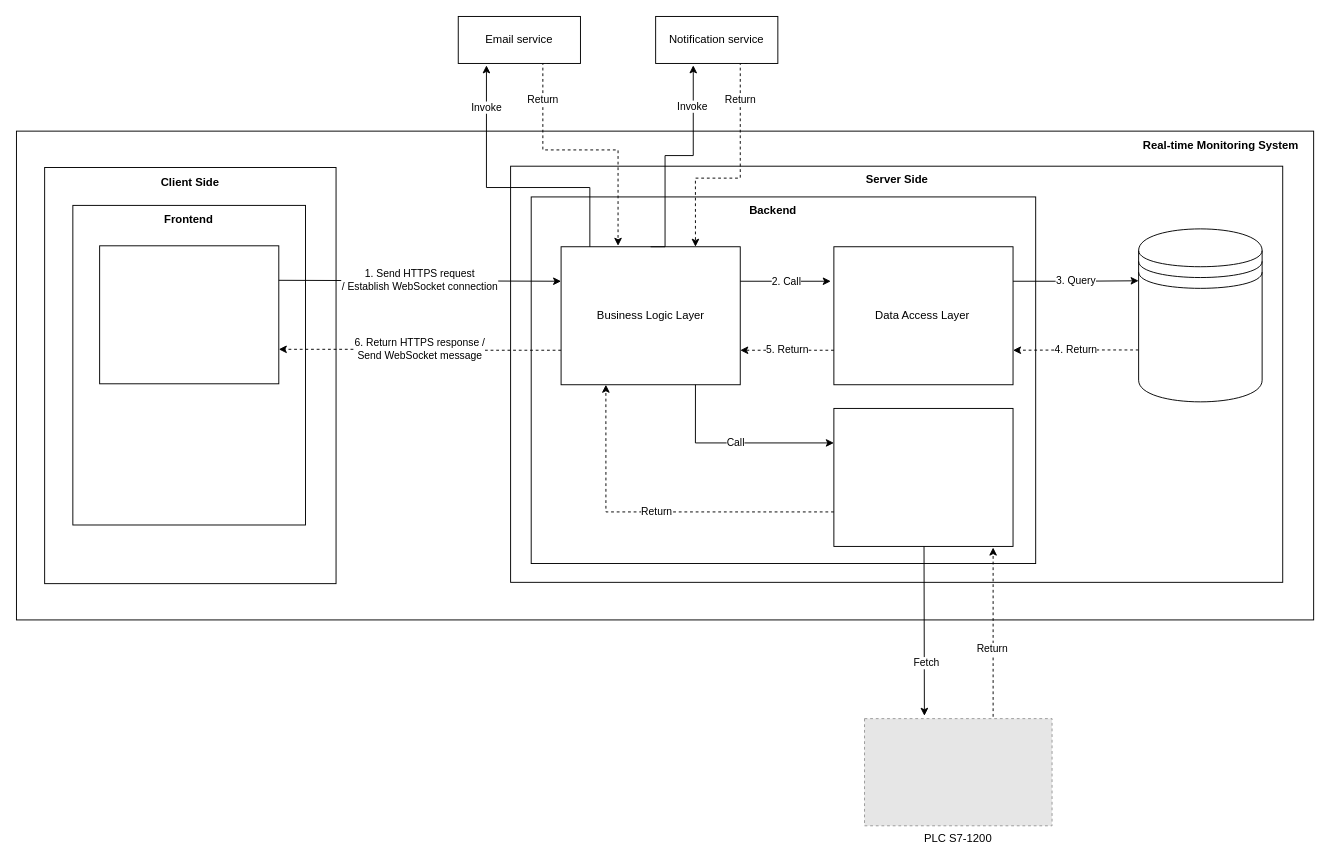
The diagram is 1330 pixels wide and 862 high, and some of its shapes have lost their labels. Grey dashed boxes stand in for pictures. Each missing label, with the centre of its shape:
Database: point (1200, 315)
PLC Integration Layer: point (923, 476)
Presentation Layer: point (189, 314)
